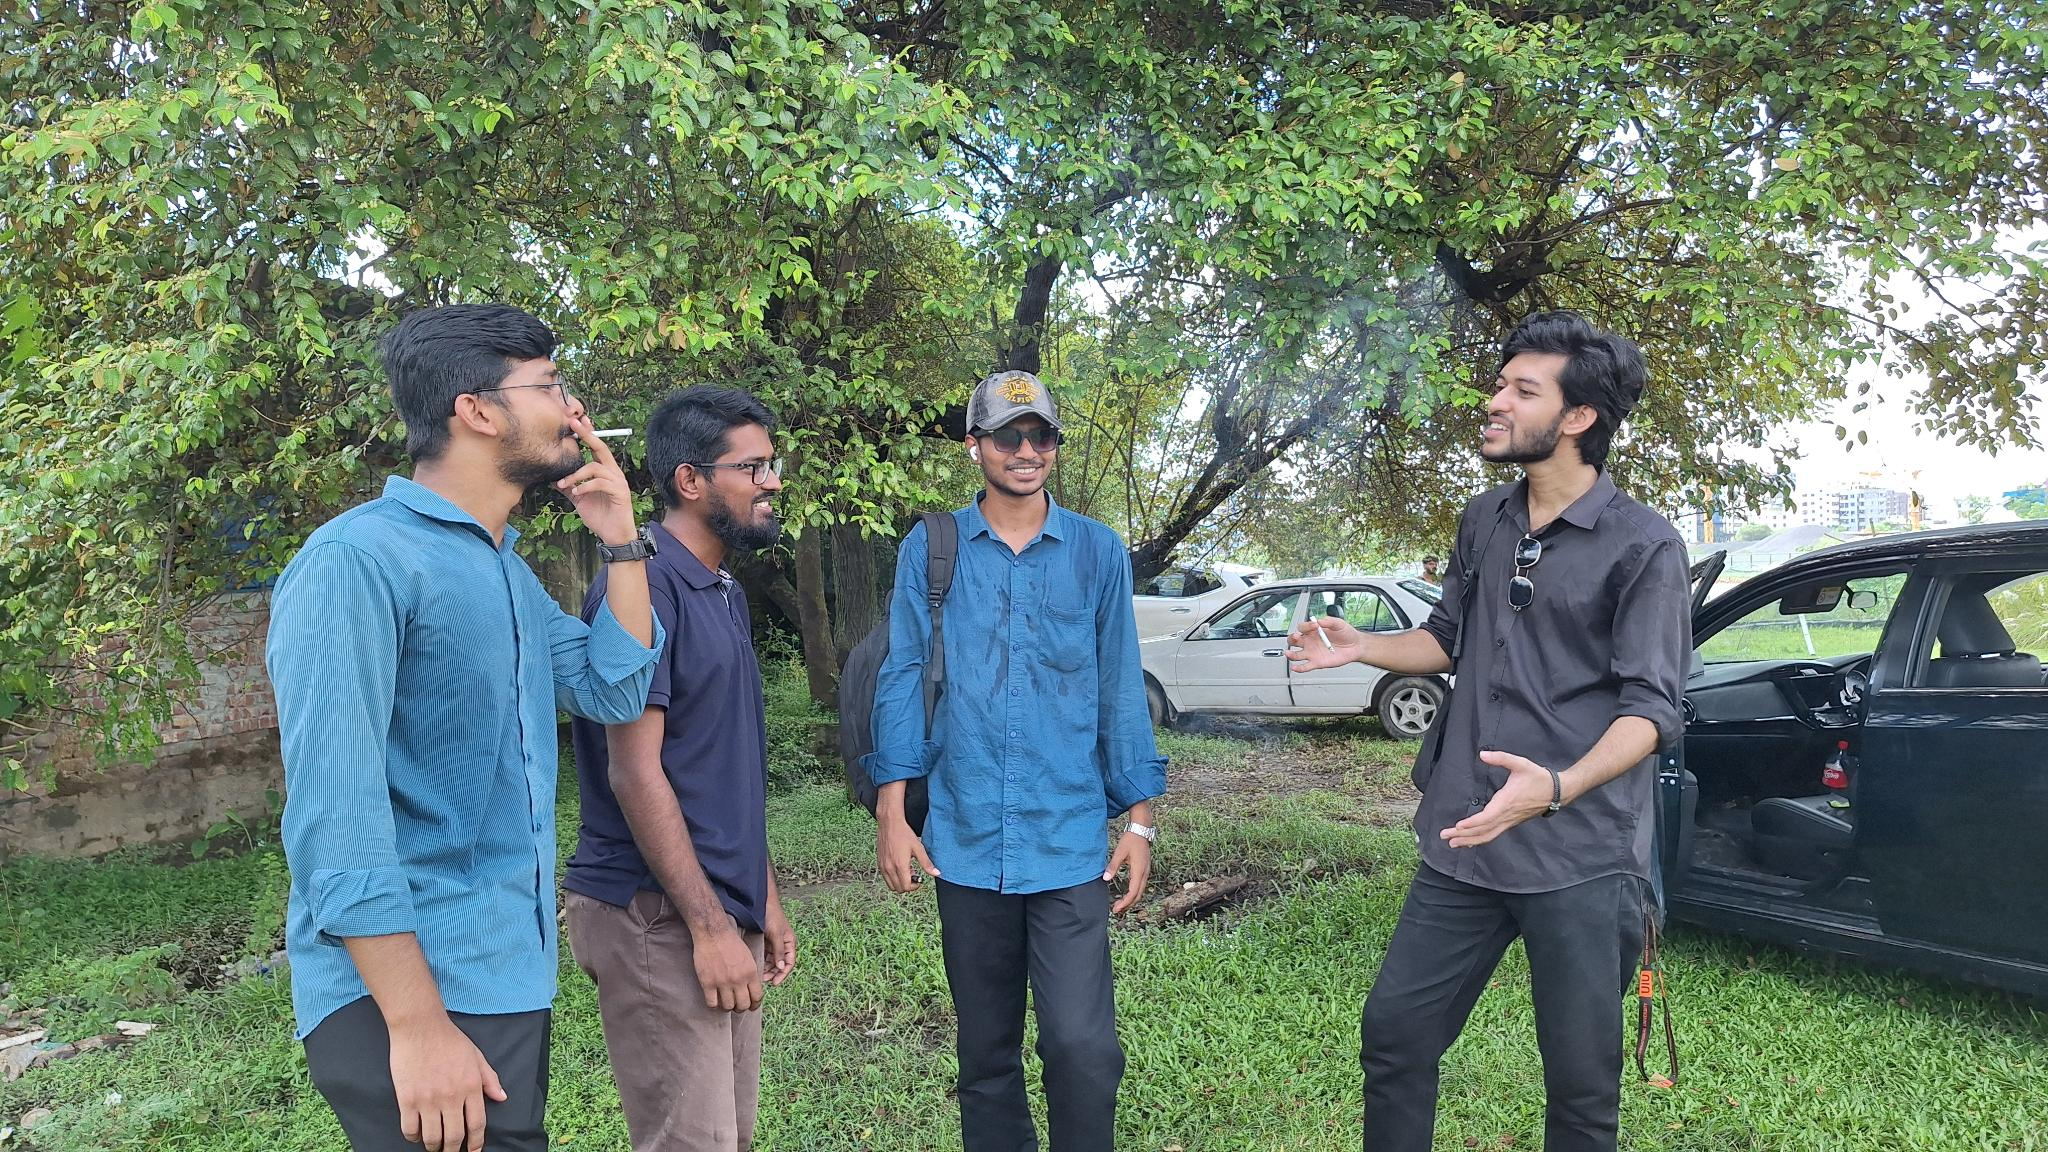cigarette: (1308, 615, 1336, 655), (568, 426, 634, 442)
nonSmoker: (838, 369, 1172, 1152), (565, 387, 796, 1152)
smoker: (1281, 307, 1694, 1152), (263, 304, 667, 1152)
